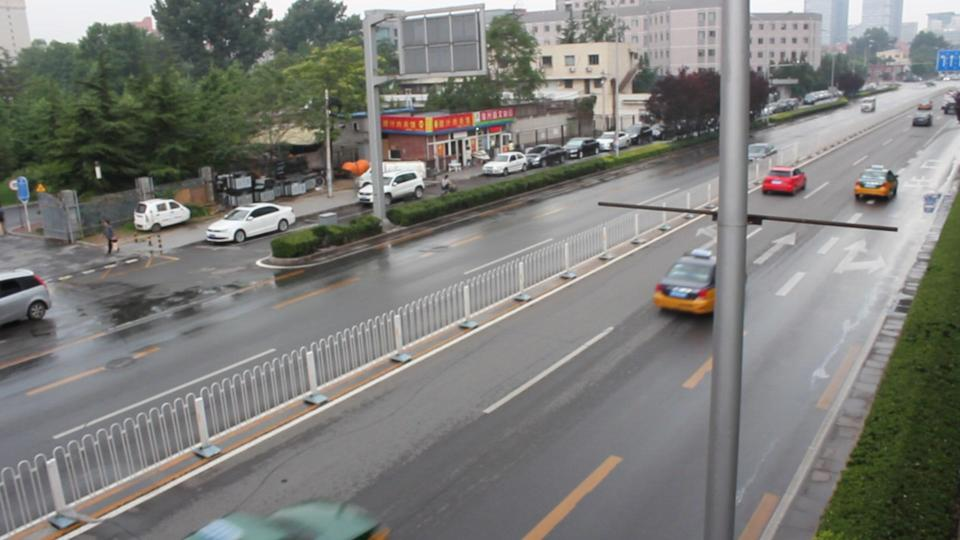Car: (655, 248, 750, 318), (851, 165, 896, 199), (760, 166, 805, 196), (739, 141, 774, 162)
